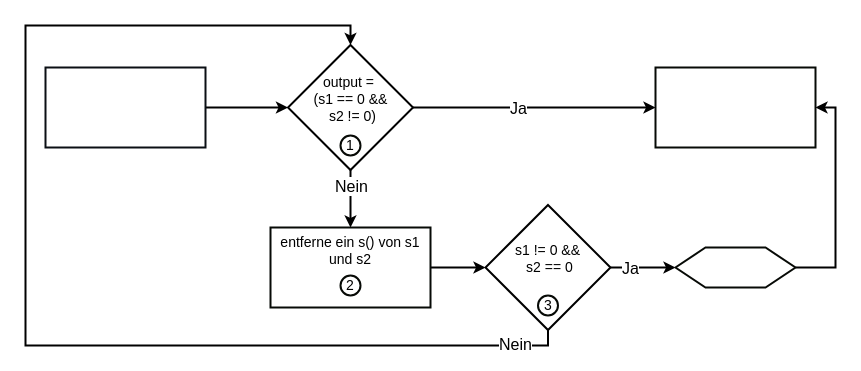
Image size: 861x371. Some labels were removed from this diagram. The shapes that lost their labels are listed below. From the top down, each one's centre as x and y in pixels, then its label:
At point (125, 107): "lt(s1, s2)".
At point (735, 107): "gebe output zurück".
At point (735, 267): "output = false".
